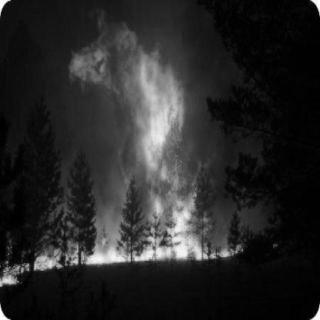Fire: (8, 14, 248, 284)
